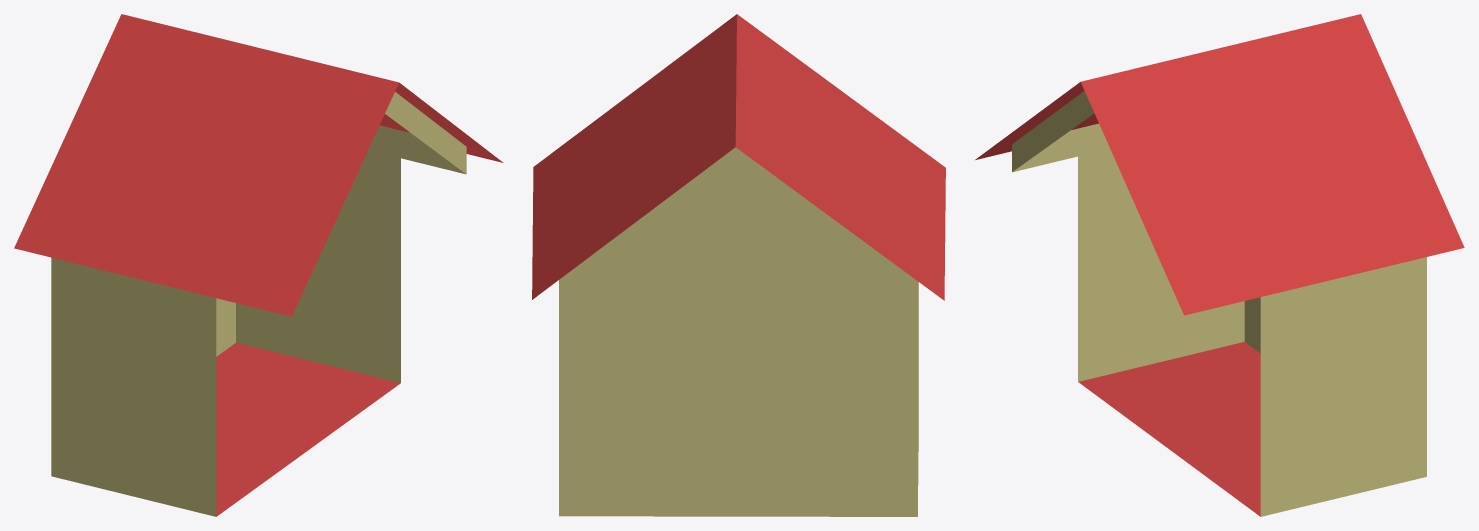
3 renders of one model, left to right at view 1: azimuth 30°, elevation 25°; view 2: azimuth 150°, elevation 25°; view 3: azimuth 270°, elevation 25°, orthographic. The views are drawn at different scales.
Bounding box in the file's own units: 19.17 × 17.82 × 15.65.
